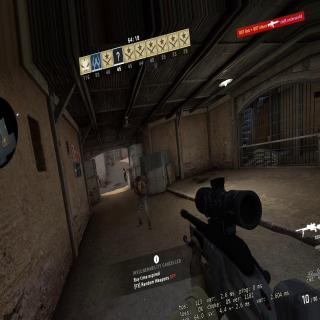T-Body: (133, 171, 152, 228), (122, 166, 126, 182)
T-Head: (138, 175, 141, 185), (123, 167, 125, 170)
